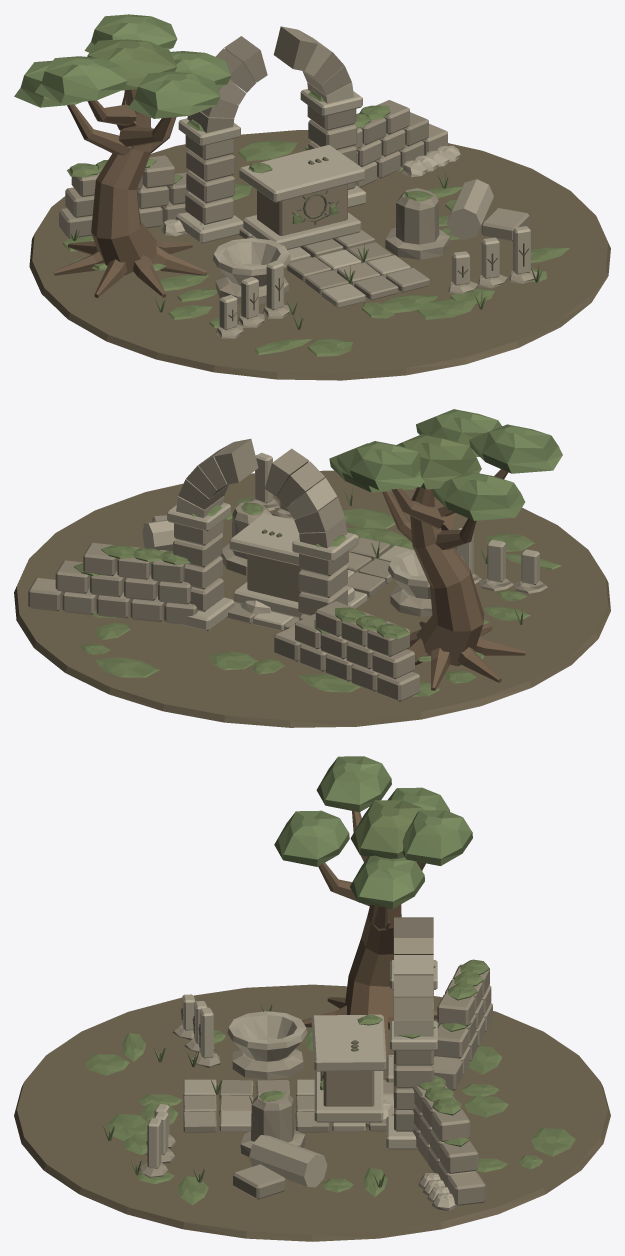
File: mossveil-sanctuary.glb
The picture shows the model from 3 angles, top to bottom: view 1: azimuth 30°, elevation 25°; view 2: azimuth 150°, elevation 25°; view 3: azimuth 270°, elevation 25°; orthographic projection. The views are drawn at different scales.
Visible parts, largest first — view 1: mossveil-sanctuary; view 2: mossveil-sanctuary; view 3: mossveil-sanctuary.
Part boxes in pixels (bbox=[...]): mossveil-sanctuary: bbox=[14, 14, 610, 380]; mossveil-sanctuary: bbox=[14, 409, 610, 727]; mossveil-sanctuary: bbox=[14, 756, 610, 1241].
Bounding box in the file's own units: 10.76 × 4.72 × 10.6.
